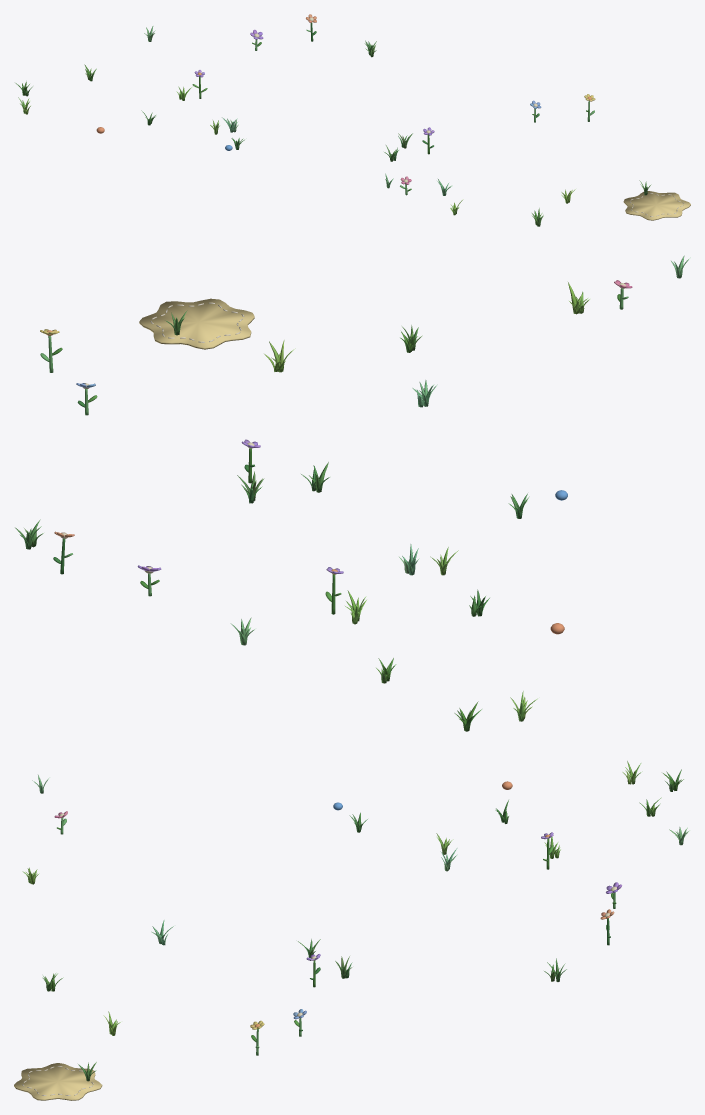
The model's file is W3_FloraRing_11_8.fbx.
3 views of the same model, one above another, from view 1: azimuth 30°, elevation 25°; view 2: azimuth 150°, elevation 25°; view 3: azimuth 270°, elevation 25° (orthographic). The views are drawn at different scales.
Parts seen in each view (by area): view 1: W3_FloraRing_11_8; view 2: W3_FloraRing_11_8; view 3: W3_FloraRing_11_8.
Part boxes in pixels (left/top/right/bottom): W3_FloraRing_11_8: left=15, top=14, right=690, bottom=226; W3_FloraRing_11_8: left=15, top=255, right=690, bottom=731; W3_FloraRing_11_8: left=14, top=761, right=689, bottom=1100.
Size of the model in its own units: 3.93 by 0.8655 by 3.99.
